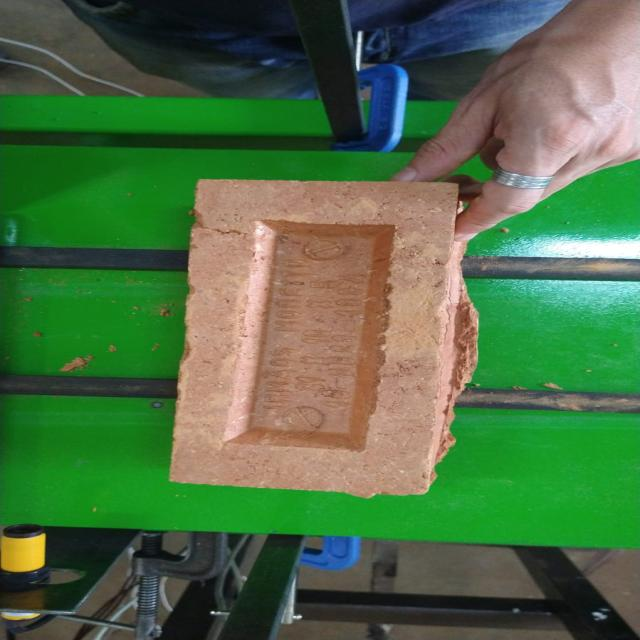bricks_ruin: (167, 180, 479, 500)
